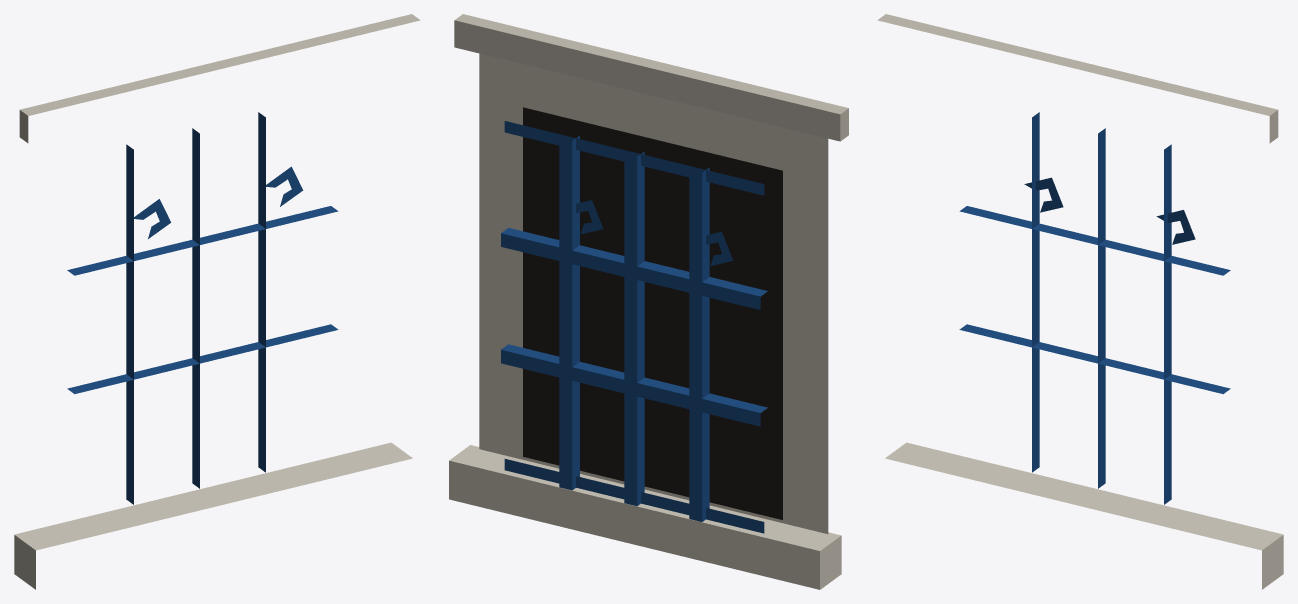
File: window_grille_blue.glb
The picture shows the model from 3 angles, left to right: view 1: azimuth 30°, elevation 25°; view 2: azimuth 150°, elevation 25°; view 3: azimuth 330°, elevation 25°; orthographic projection.
Parts seen in each view (by area): view 1: window_grille_blue; view 2: window_grille_blue; view 3: window_grille_blue.
Boxes of the visible parts, x1,y1,x2,y2 form: window_grille_blue: (14,14,420,589); window_grille_blue: (449,14,848,589); window_grille_blue: (877,14,1283,589).
Bounding box in the file's own units: 1.04 × 1.21 × 0.1175.
